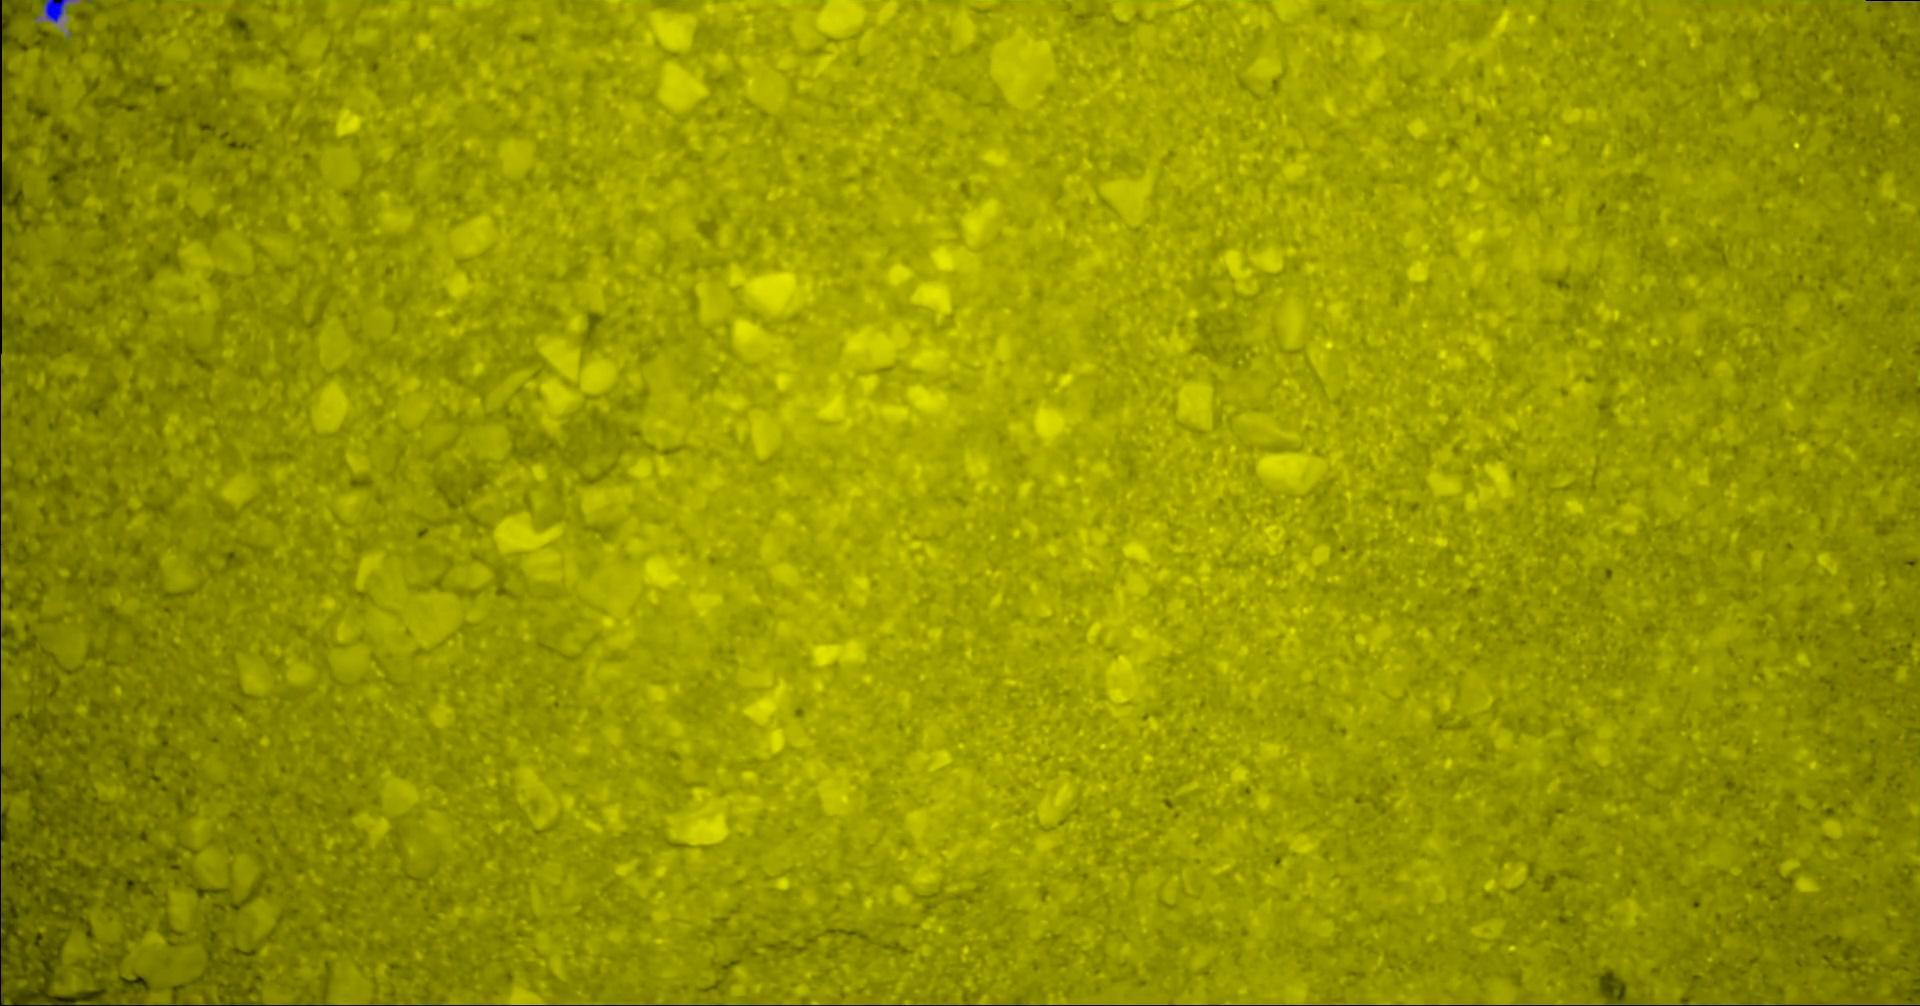ant: (42, 0, 72, 22)
